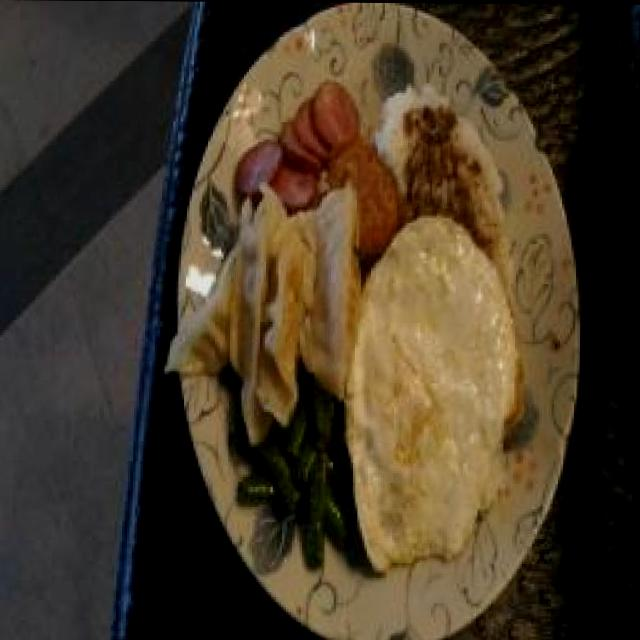chinese_sausage: (233, 76, 359, 202)
fried_dumplings: (163, 186, 366, 430)
fried_eggs: (343, 210, 526, 574)
rice: (379, 90, 499, 241)
